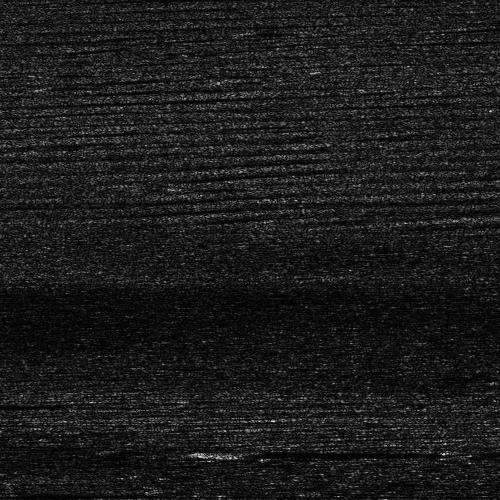shadow: (0, 490, 135, 499), (0, 396, 19, 411)
